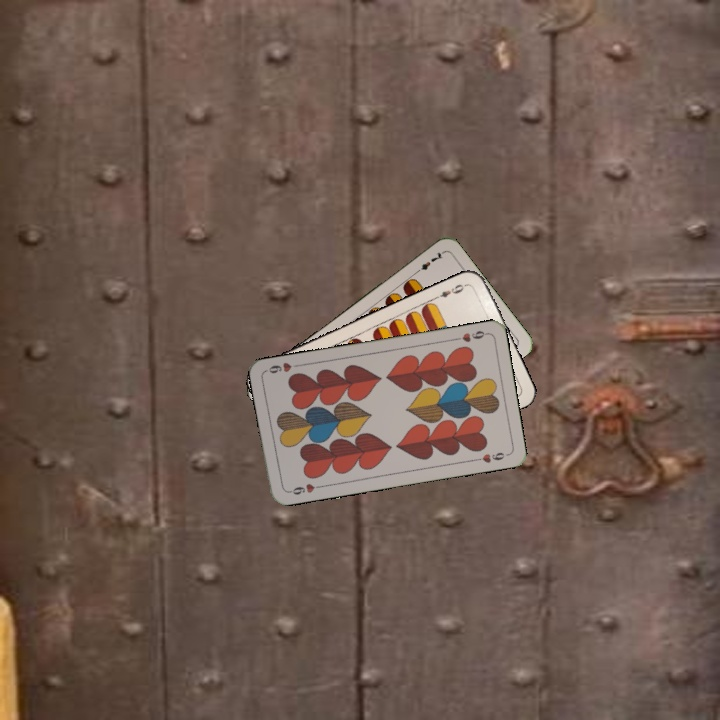E7: (411, 248, 446, 277)
E9: (431, 279, 470, 301)
H9: (284, 479, 324, 498), (449, 327, 490, 345)
